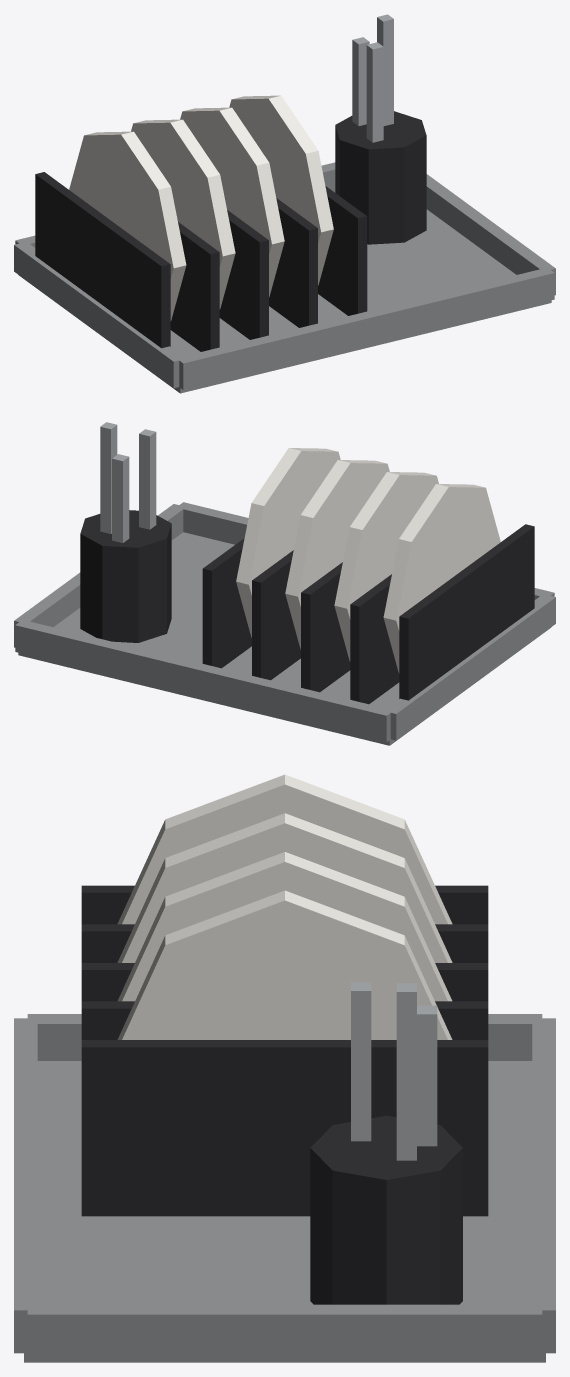
Rendered from FN_Rack_Dish.obj.
The picture shows the model from 3 angles, top to bottom: view 1: azimuth 30°, elevation 25°; view 2: azimuth 150°, elevation 25°; view 3: azimuth 270°, elevation 25°; orthographic projection. The views are drawn at different scales.
Parts seen in each view (by area): view 1: FN_Rack_Dish; view 2: FN_Rack_Dish; view 3: FN_Rack_Dish.
Part boxes in pixels (x1,y1,x2,y2): FN_Rack_Dish: (14,14,555,393); FN_Rack_Dish: (14,422,555,745); FN_Rack_Dish: (14,774,555,1362).
Size of the model in its own units: 0.42 by 0.22 by 0.32.
Materials: 1 (1 with a texture image).
